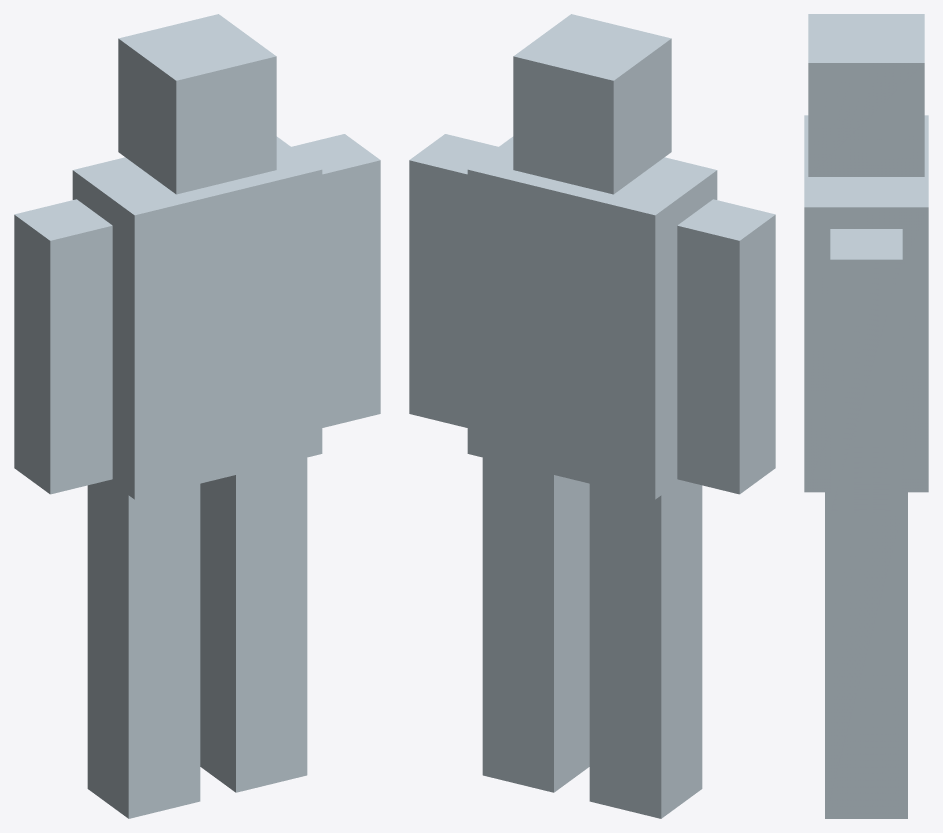
File: ice_troll.glb
The picture shows the model from 3 angles, left to right: view 1: azimuth 30°, elevation 25°; view 2: azimuth 150°, elevation 25°; view 3: azimuth 270°, elevation 25°; orthographic projection.
Visible parts, largest first — view 1: ice_troll; view 2: ice_troll; view 3: ice_troll.
Part boxes in pixels (box(x1,y1,x2,y2)): ice_troll: box(14, 14, 380, 818); ice_troll: box(409, 14, 775, 818); ice_troll: box(804, 14, 928, 818).
Bounding box in the file's own units: 1.15 × 2.44 × 0.372.
